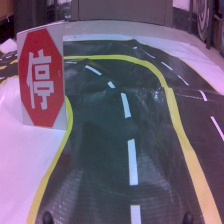stop: (16, 21, 70, 130)
